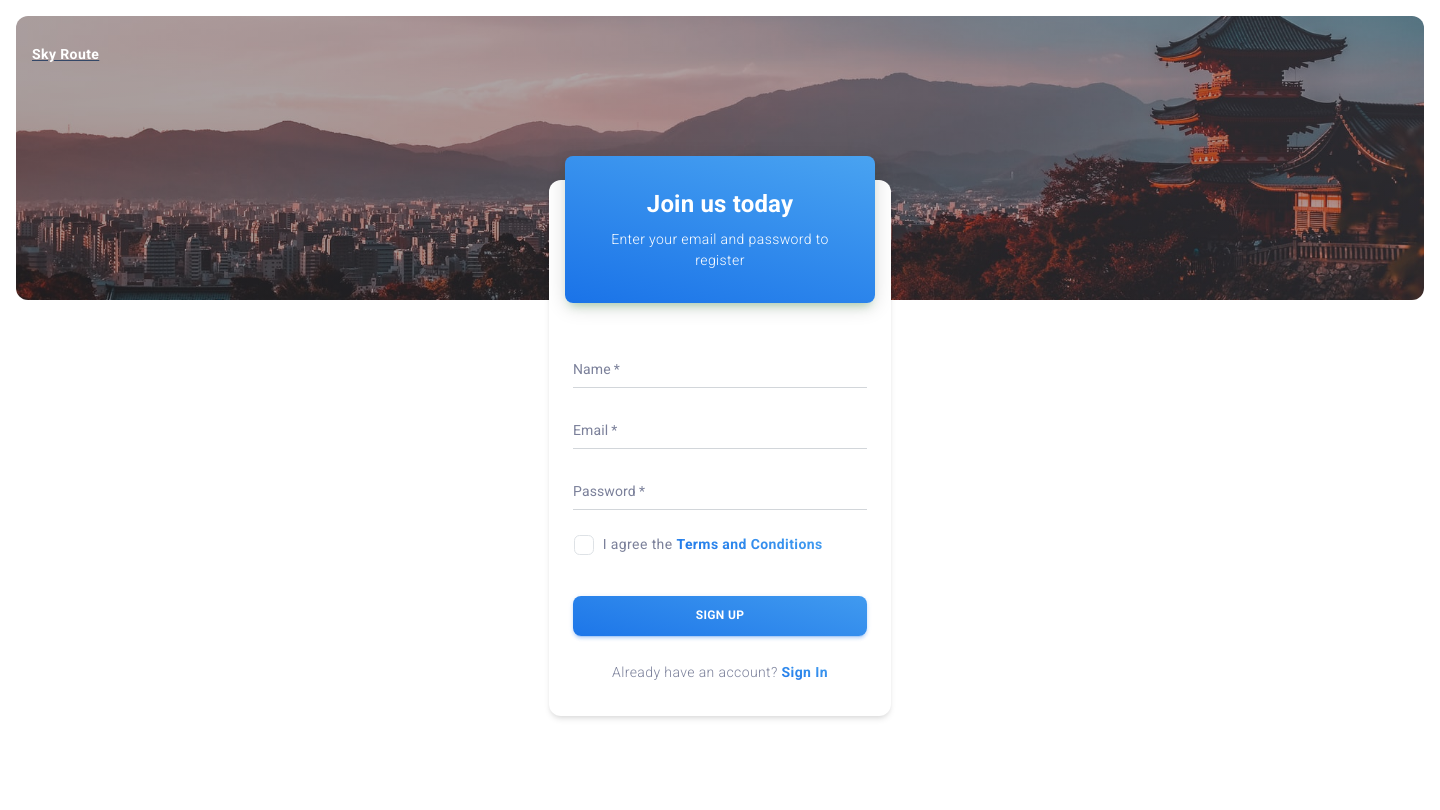
it: Cover Component (Signup) › shows server error message on fetch failure
The image size is (1440, 810).
Step 1. Type "Test User" into the field labelled "Name *" → x=720, y=373, box [573,358,867,388]
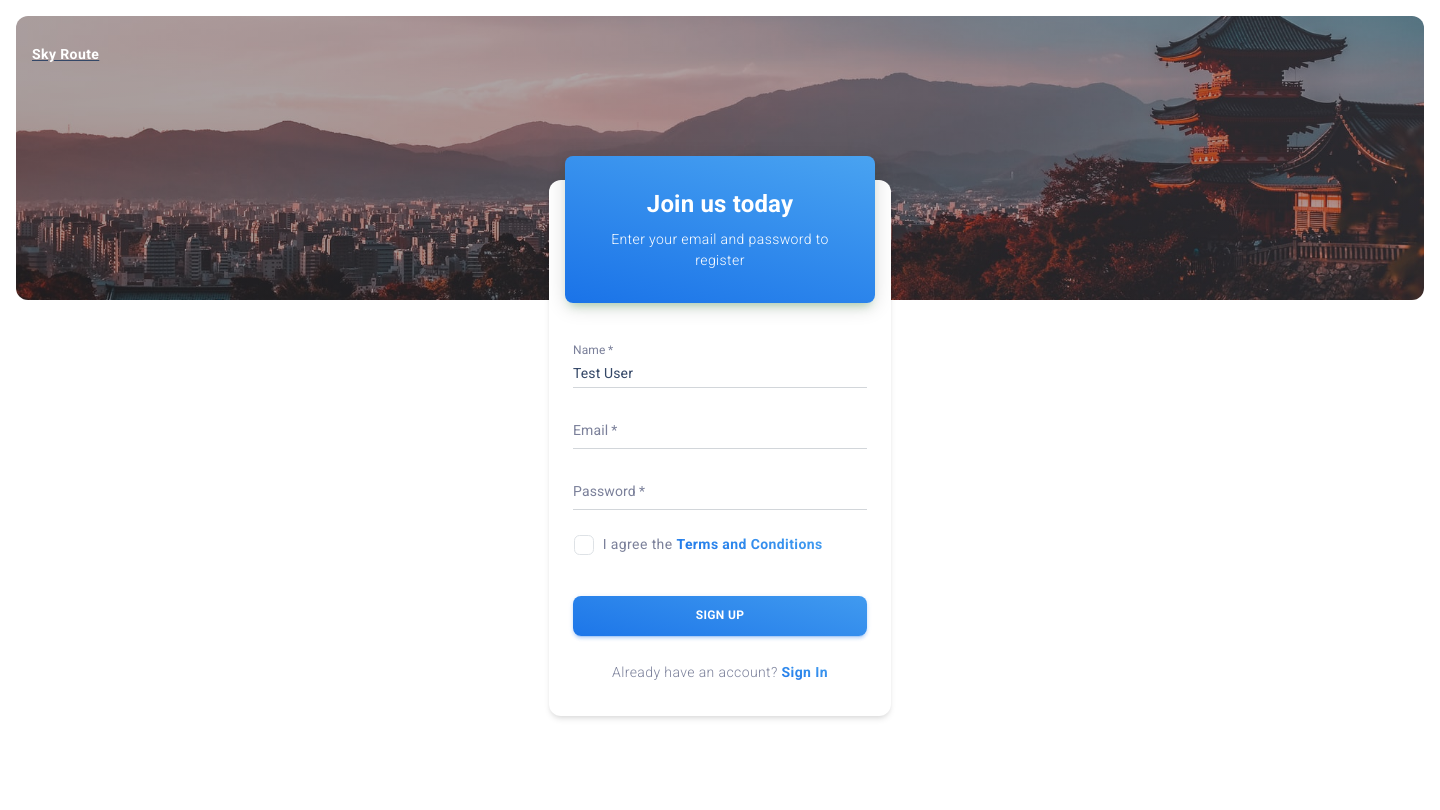
Step 2. Type "test@example.com" into the field labelled "Email *" → x=720, y=434, box [573,420,867,449]
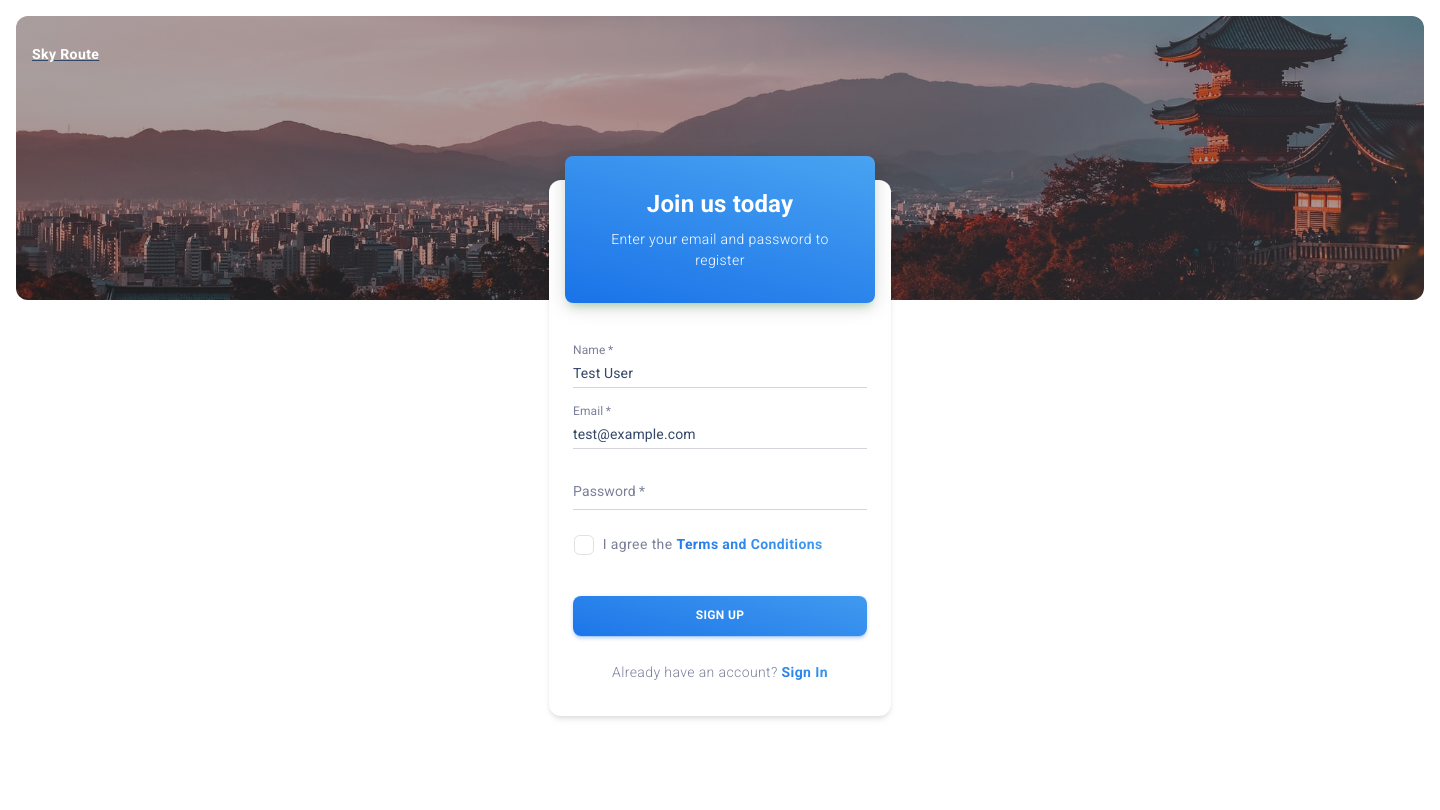
Step 3. Type "password123" into the password field labelled "Password *" → x=720, y=495, box [573,481,867,510]
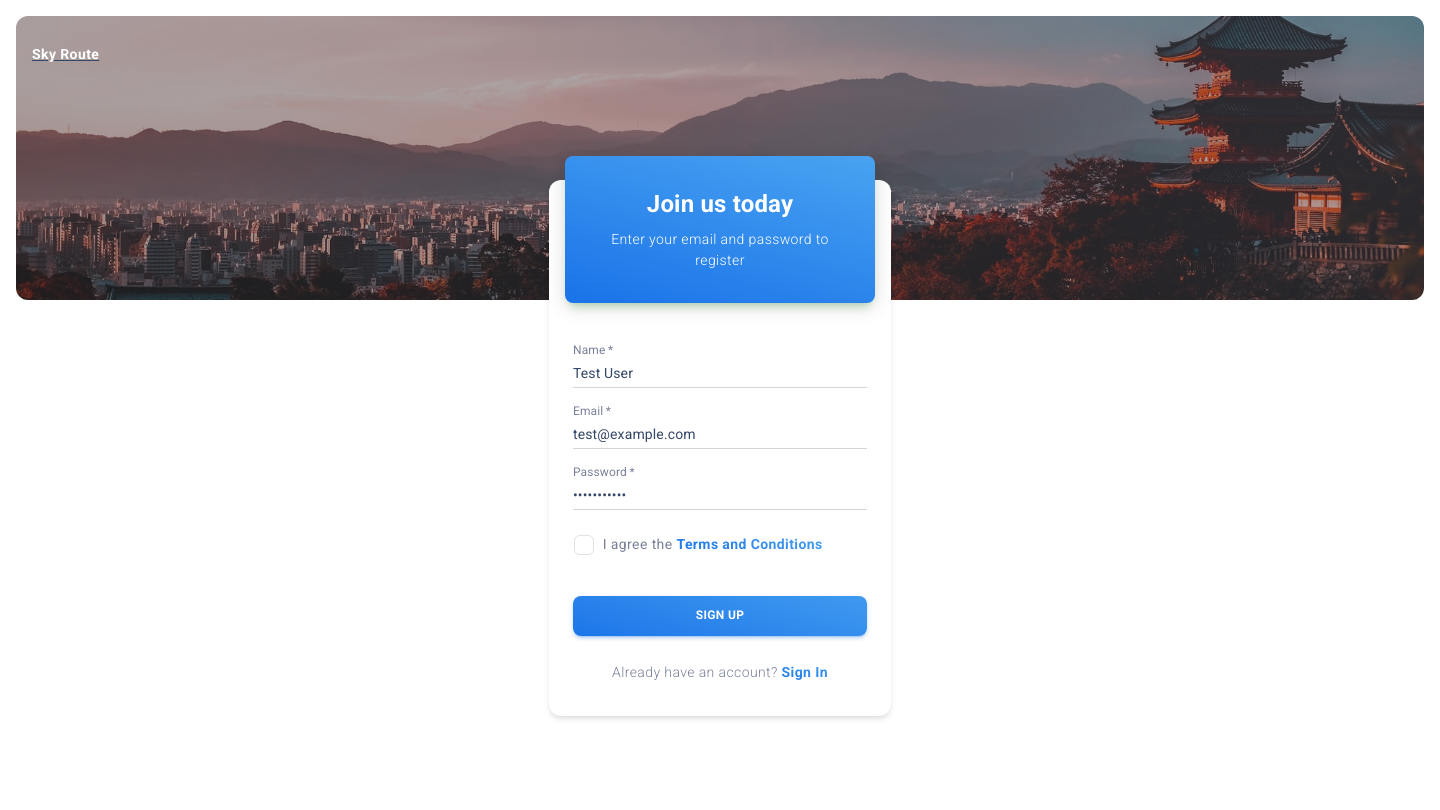
Step 4. Click the button "Sign Up" → x=720, y=616, box [573,596,867,636]
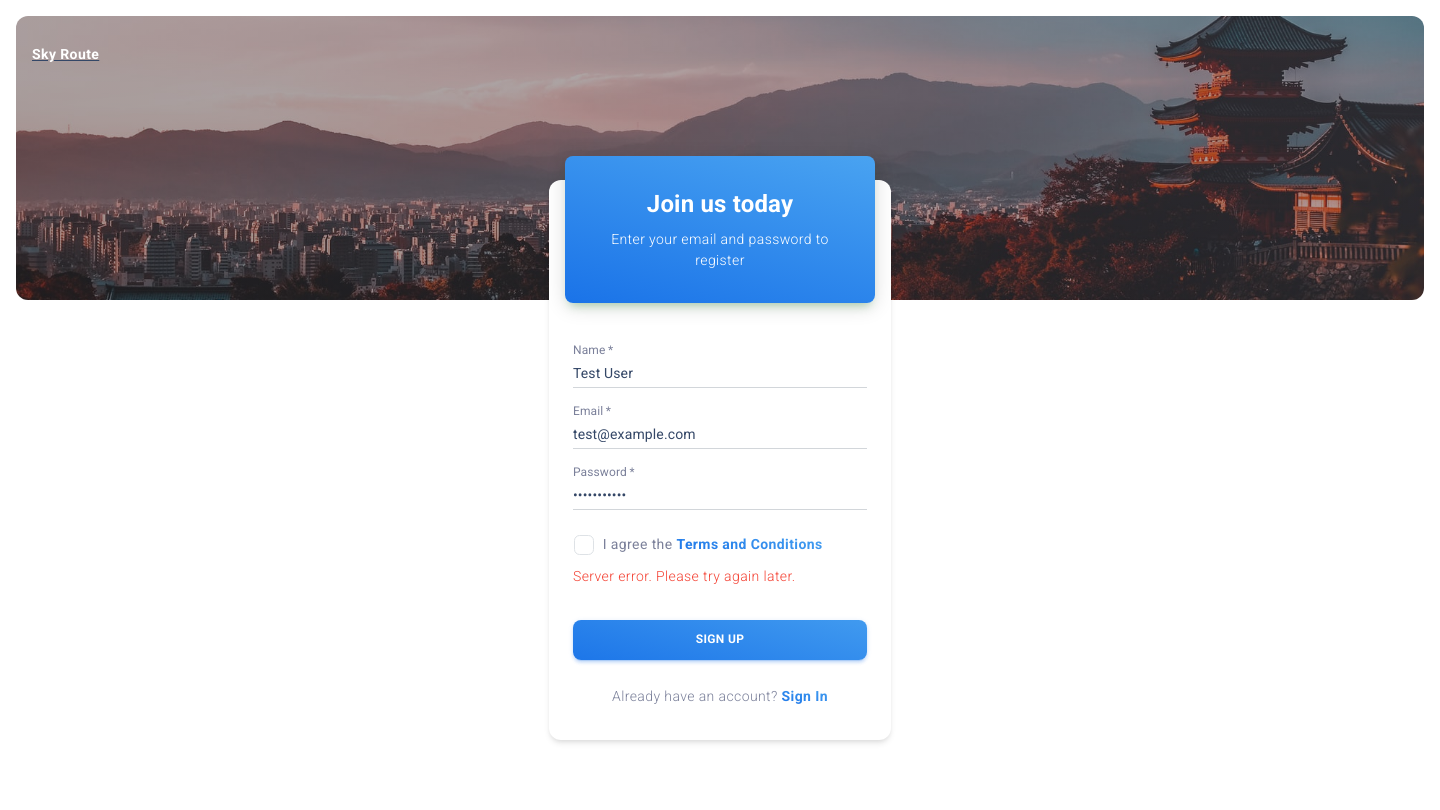
Check: the button "Sign Up" is enabled, box [573,620,867,660]
Check: the button "Server error. Please try again later." is shown, box [573,568,796,584]
